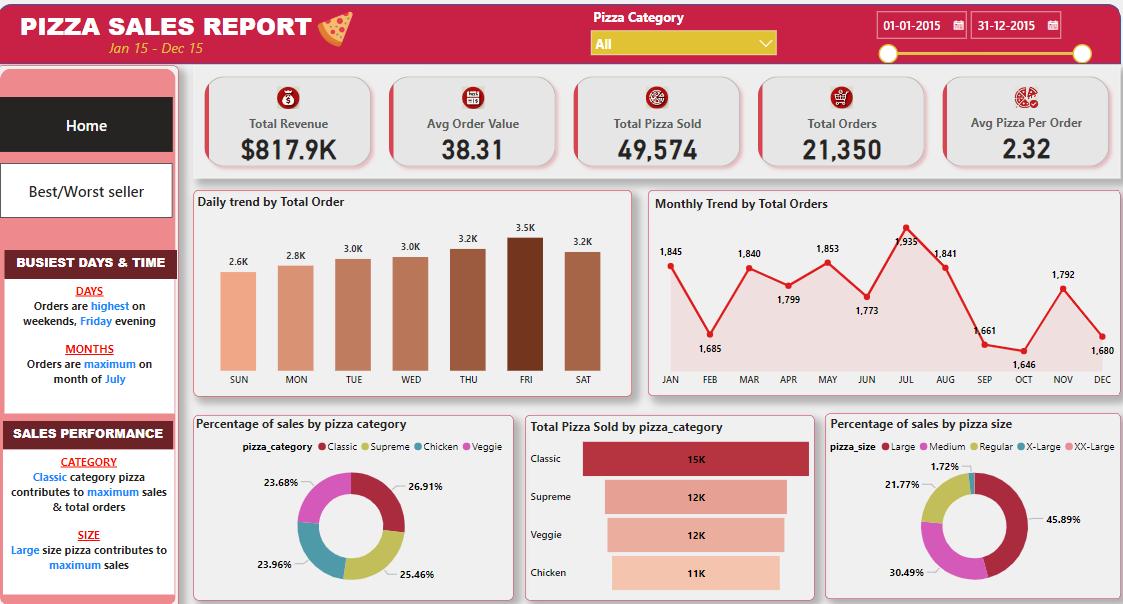

The dashboard page shown, as its layout file describes it:
{"tool":"powerbi","page":{"name":"Home","canvas":[1505,824],"ordinal":0},"visuals":[{"type":"cardVisual","fields":{"Data":["_measures.Total Revenue","_measures.Avg Order Value","_measures.Total Pizza Sold","_measures.Total Orders","_measures.Avg Pizza Per Order"]},"box":[262.7,94.1,1237.3,151],"z":0},{"type":"shape","box":[0,11.8,1500,80.4],"z":1000},{"type":"textbox","box":[0,11.1,450.4,57.2],"z":2000},{"type":"textbox","box":[143.1,52.9,166.7,43.1],"z":3000},{"type":"image","box":[413.5,16.6,73.8,59.1],"z":4000},{"type":"shape","box":[262.3,260.4,584.9,275.5],"z":5000},{"type":"columnChart","title":"Daily trend by Total Order","fields":{"Category":["pizza_sales.Order Day"],"Y":["_measures.Total Orders"]},"box":[262.2,264.4,580,266.7],"z":6000},{"type":"shape","box":[868.6,260.8,631.4,274.5],"z":7000},{"type":"areaChart","title":"Monthly Trend by Total Orders","fields":{"Category":["pizza_sales.Order Month"],"Y":["_measures.Total Orders"]},"box":[872.5,266.7,627.5,264.7],"z":8000},{"type":"shape","box":[262.3,560.4,426.4,247.2],"z":9000},{"type":"shape","box":[703.9,560.8,386.3,247.1],"z":10000},{"type":"shape","box":[1103.9,558.8,396.1,247.1],"z":11000},{"type":"donutChart","title":"Percentage of sales by pizza category","fields":{"Category":["pizza_sales.pizza_category"],"Y":["_measures.Total Revenue"]},"box":[260.8,560.8,423.5,245.1],"z":12000},{"type":"donutChart","title":"Percentage of sales by pizza size","fields":{"Y":["_measures.Total Revenue"],"Category":["pizza_sales.pizza_size"]},"box":[1105.9,560.8,394.1,245.1],"z":13000},{"type":"funnel","fields":{"Category":["pizza_sales.pizza_category"],"Y":["_measures.Total Pizza Sold"]},"box":[705.9,564.7,386.3,239.2],"z":14000},{"type":"shape","box":[0,93.3,242.2,726.7],"z":15000},{"type":"textbox","box":[8.9,568.9,226.7,37.8],"z":16000},{"type":"textbox","box":[10,378.3,226.7,180],"z":17000},{"type":"textbox","box":[10,340,230,38.3],"z":18000},{"type":"textbox","box":[8.9,606.7,228.9,193.3],"z":19000},{"type":"slicer","fields":{"Values":["pizza_sales.pizza_category"]},"box":[782.6,12.9,267.6,75.7],"z":20000},{"type":"slicer","fields":{"Values":["pizza_sales.order_date"]},"box":[1159.2,12.9,308.2,79.4],"z":21000},{"type":"pageNavigator","box":[4.7,135.3,230.2,73.6],"z":22000},{"type":"pageNavigator","box":[4.7,223.1,230,73.6],"z":23000}]}

Visuals, with their boxes in screenshot pixels (x1, y1, x2, y2), scaled from the page's 1505x824 canvas onto the 1123x604 screenshot:
cardVisual - _measures.Total Revenue x _measures.Avg Order Value: bbox=[196, 69, 1119, 180]
shape: bbox=[0, 9, 1119, 68]
textbox: bbox=[0, 8, 336, 50]
textbox: bbox=[107, 39, 231, 70]
image: bbox=[309, 12, 364, 55]
shape: bbox=[196, 191, 632, 393]
"Daily trend by Total Order" columnChart: bbox=[196, 194, 628, 389]
shape: bbox=[648, 191, 1119, 392]
"Monthly Trend by Total Orders" areaChart: bbox=[651, 195, 1119, 390]
shape: bbox=[196, 411, 514, 592]
shape: bbox=[525, 411, 813, 592]
shape: bbox=[824, 410, 1119, 591]
"Percentage of sales by pizza category" donutChart: bbox=[195, 411, 511, 591]
"Percentage of sales by pizza size" donutChart: bbox=[825, 411, 1119, 591]
funnel - pizza_sales.pizza_category x _measures.Total Pizza Sold: bbox=[527, 414, 815, 589]
shape: bbox=[0, 68, 181, 601]
textbox: bbox=[7, 417, 176, 445]
textbox: bbox=[7, 277, 177, 409]
textbox: bbox=[7, 249, 179, 277]
textbox: bbox=[7, 445, 177, 586]
slicer - pizza_sales.pizza_category: bbox=[584, 9, 784, 65]
slicer - pizza_sales.order_date: bbox=[865, 9, 1095, 68]
pageNavigator: bbox=[4, 99, 175, 153]
pageNavigator: bbox=[4, 164, 175, 217]
